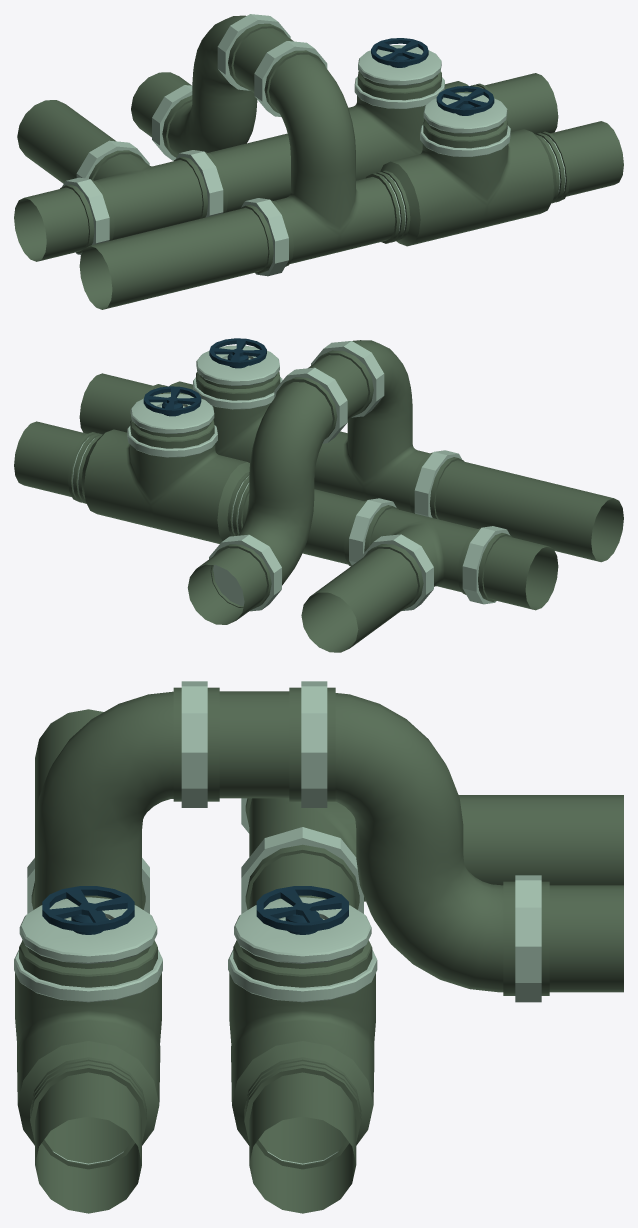
Rendered from PipeComplexLarge_A1_09.fbx.
The picture shows the model from 3 angles, top to bottom: view 1: azimuth 30°, elevation 25°; view 2: azimuth 150°, elevation 25°; view 3: azimuth 270°, elevation 25°; orthographic projection. The views are drawn at different scales.
Visible parts, largest first — view 1: PipeComplexLarge_A1_09.001; view 2: PipeComplexLarge_A1_09.001; view 3: PipeComplexLarge_A1_09.001.
Part boxes in pixels (x1=…): PipeComplexLarge_A1_09.001: x1=14, y1=14, x2=623, y2=309; PipeComplexLarge_A1_09.001: x1=14, y1=338, x2=623, y2=652; PipeComplexLarge_A1_09.001: x1=14, y1=681, x2=623, y2=1213.
Size of the model in its own units: 1.8 by 0.6529 by 1.14.
